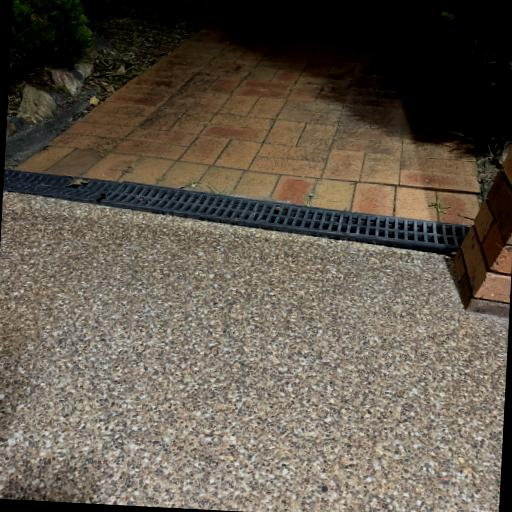gutter: (3, 170, 469, 255)
